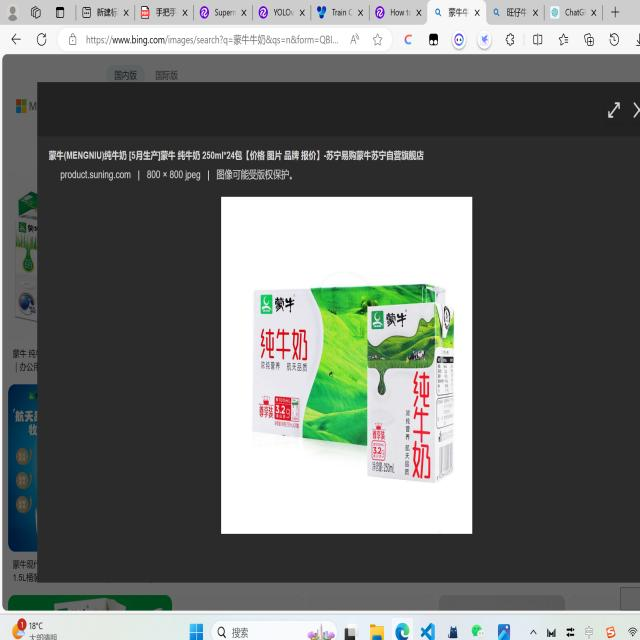mengniu_milk: (366, 306, 456, 374)
